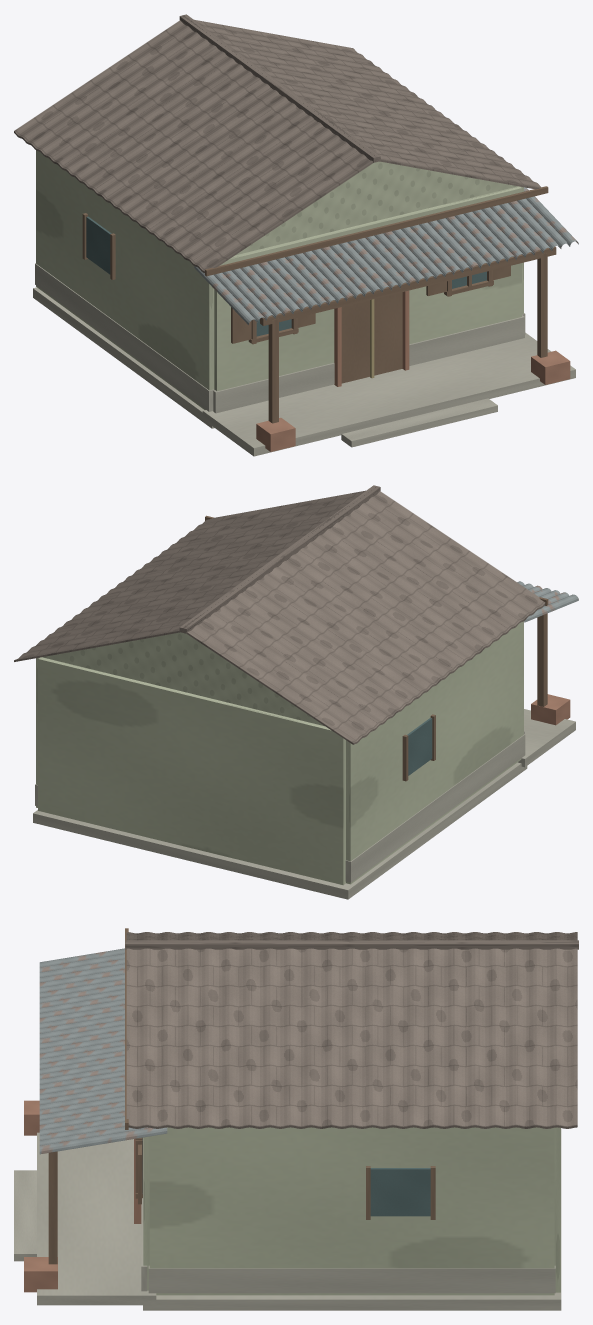
Rendered from Nha05_NgoiCu_HienTon.fbx.
The picture shows the model from 3 angles, top to bottom: view 1: azimuth 30°, elevation 25°; view 2: azimuth 150°, elevation 25°; view 3: azimuth 270°, elevation 25°; orthographic projection. The views are drawn at different scales.
Parts seen in each view (by area): view 1: Main_clay_tile_roof.004, Side_wall.008, Porch_roof.004, Porch_floor.004, Gable_wall.008, Upper_gable.008, Front_bottom_band.004, Door_recess.004, Bottom_band.008, Front_fascia.004, Front_step.004, Plinth.004 (+9 smaller); view 2: Main_clay_tile_roof.004, Gable_wall.009, Side_wall.008, Upper_gable.009, Plinth.004, Bottom_band.008, Ridge_cap.004, Porch_floor.004, Side_window.008, Porch_post.006, Brick_front_planter, Porch_roof.004; view 3: Main_clay_tile_roof.004, Side_wall.009, Porch_roof.004, Porch_floor.004, Bottom_band.009, Plinth.004, Ridge_cap.004, Side_window.009, Front_step.004, Gable_wall.009, Porch_post.007, Brick_front_planter.001 (+2 smaller).
Boxes of the visible parts, x1,y1,x2,y2 form: Main_clay_tile_roof.004: (14,19,540,272); Side_wall.008: (36,150,214,409); Porch_roof.004: (194,187,578,324); Porch_floor.004: (202,332,575,456); Gable_wall.008: (214,186,521,391); Upper_gable.008: (235,161,517,255); Front_bottom_band.004: (213,315,524,413); Door_recess.004: (341,292,402,383); Bottom_band.008: (35,263,214,411); Front_fascia.004: (205,186,548,276); Front_step.004: (341,398,497,447); Plinth.004: (33,287,214,428); Main_clay_tile_roof.004: (14,490,545,744); Gable_wall.009: (38,657,345,885); Side_wall.008: (346,621,523,884); Upper_gable.009: (42,632,324,726); Plinth.004: (33,762,527,899); Bottom_band.008: (345,734,525,882); Ridge_cap.004: (179,485,380,633); Porch_floor.004: (518,709,575,767); Side_window.008: (407,718,432,775); Porch_post.006: (537,613,547,706); Brick_front_planter: (531,694,570,725); Porch_roof.004: (517,581,578,622); Main_clay_tile_roof.004: (126,932,577,1128); Side_wall.009: (149,1127,554,1295); Porch_roof.004: (39,948,167,1154); Porch_floor.004: (37,1132,156,1305); Bottom_band.009: (148,1265,555,1293); Plinth.004: (143,1128,561,1310); Ridge_cap.004: (125,940,578,949); Side_window.009: (370,1168,430,1216); Front_step.004: (14,1170,36,1261); Gable_wall.009: (554,1127,560,1292); Porch_post.007: (48,1151,57,1264); Brick_front_planter.001: (24,1257,57,1292).
Bounding box in the file's own units: 683 × 456 × 837.
